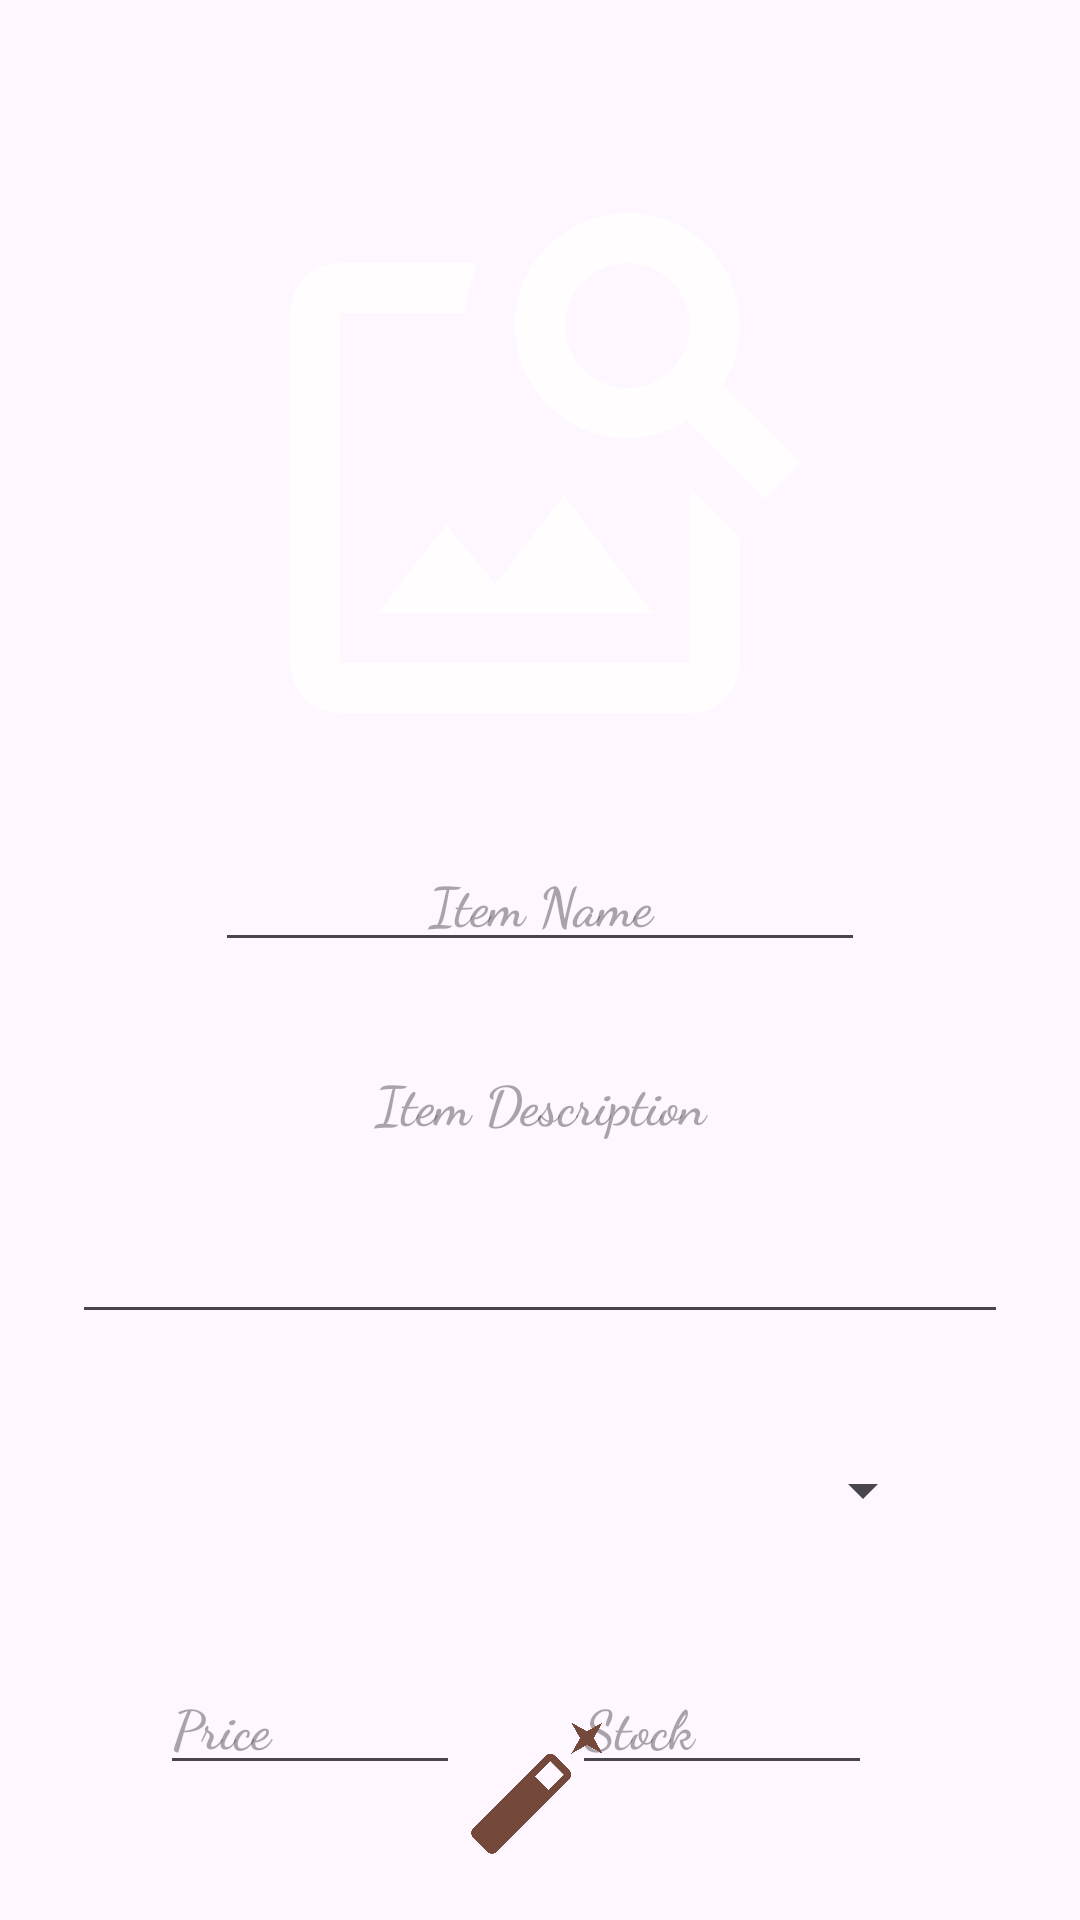

Icons on this 1080x1920 Android screen, each with the point to tap as (x=x, y=y):
magic wand: (x=542, y=1782)
